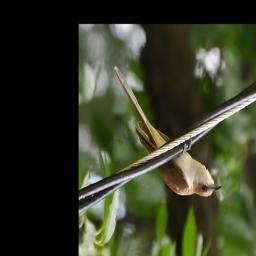Cuckoo: (112, 63, 223, 199)
